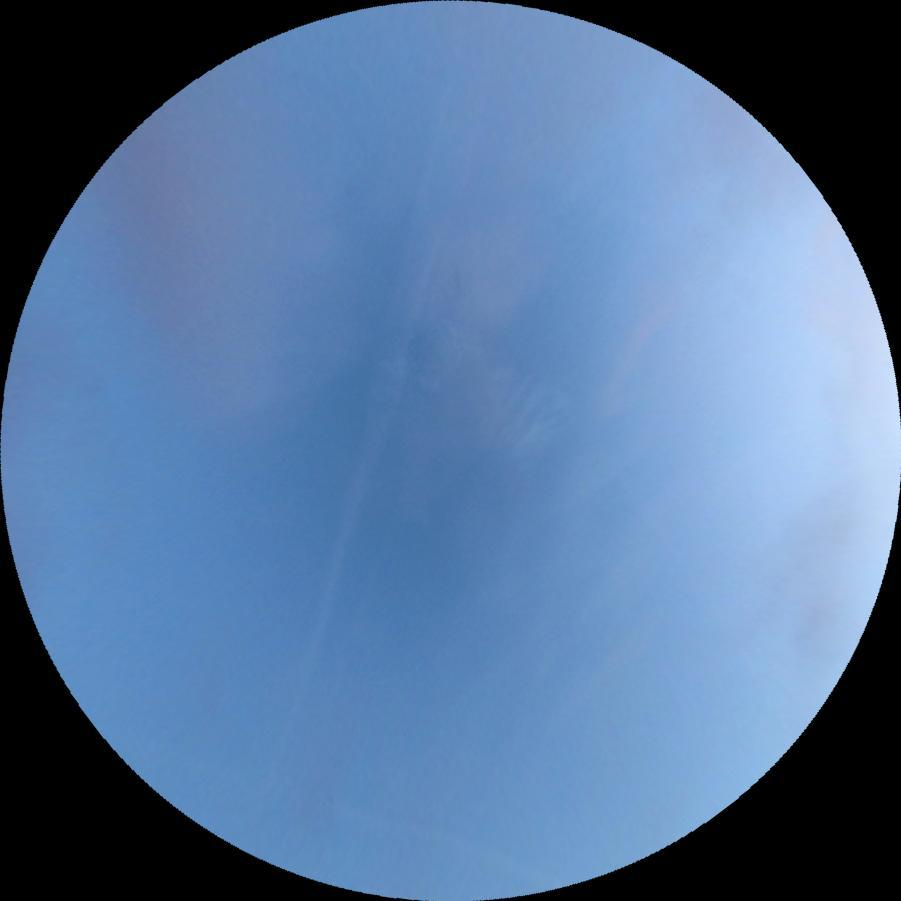contrail veryold: (199, 0, 526, 853)
